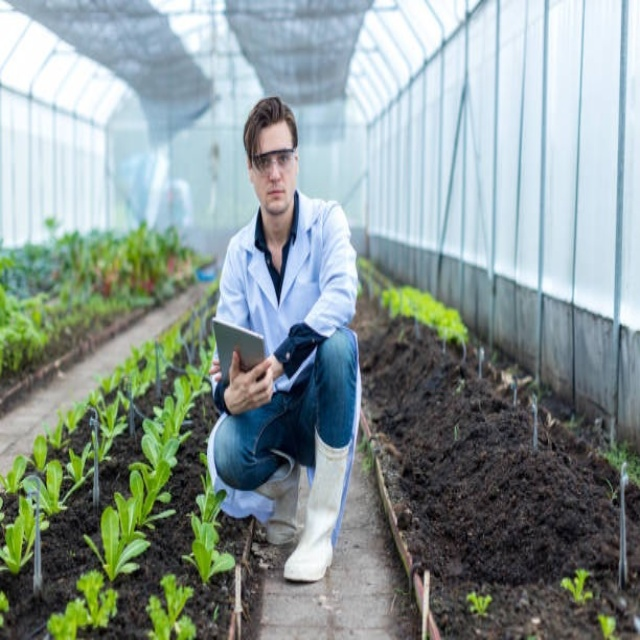Gafas: (252, 149, 296, 175)
Sin_guantes: (224, 347, 276, 416)
Sin_mascara: (265, 182, 291, 213)
